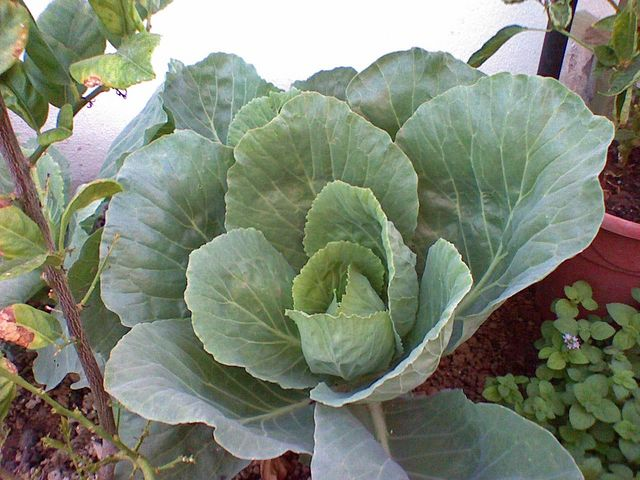cabbage: (97, 45, 617, 478)
